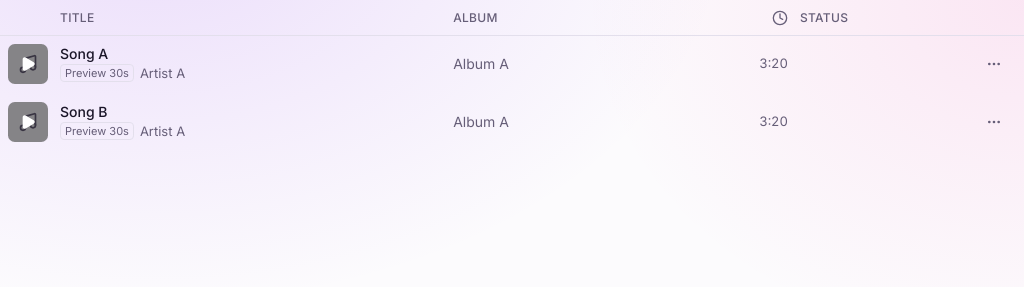
Test case: TrackList and the row menu › and not to a guest
Expected: the link "Song A" is shown, [60, 45, 108, 62]
Click the button named "More actions for": (994, 64) [972, 42, 1016, 86]
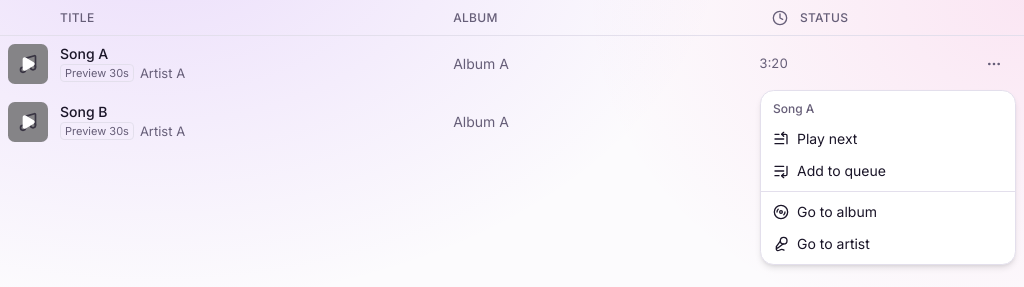
Now the menu is shown, box [760, 90, 1016, 265]
